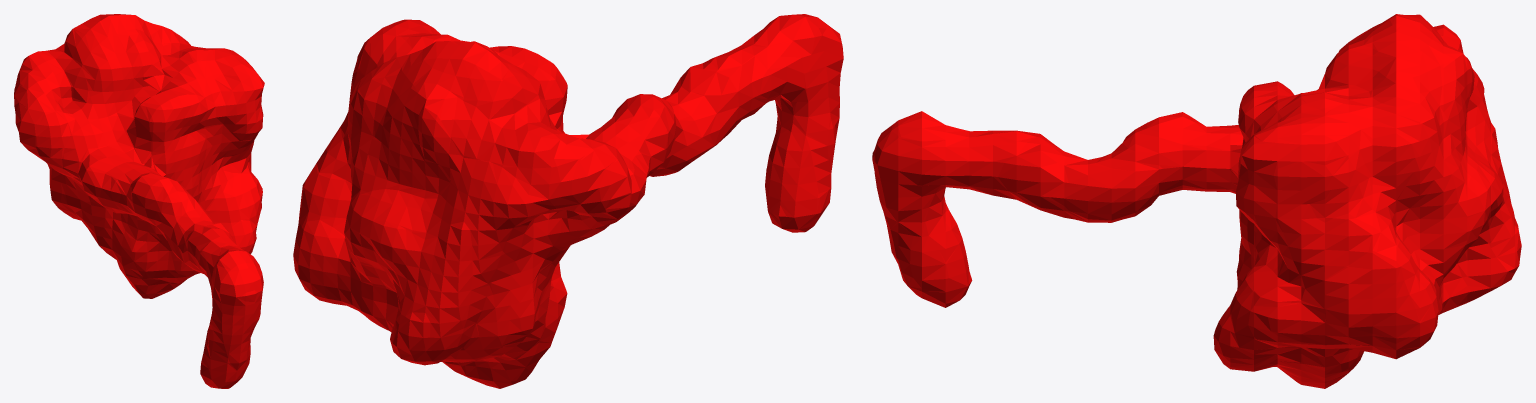
File: nuoL_coarse.dae
3 renders of one model, left to right at view 1: azimuth 30°, elevation 25°; view 2: azimuth 150°, elevation 25°; view 3: azimuth 270°, elevation 25°, orthographic. The views are drawn at different scales.
Visible parts, largest first — view 1: nuoL; view 2: nuoL; view 3: nuoL.
Part boxes in pixels (x1,y1,x2,y2): nuoL: (14,14,264,388); nuoL: (293,14,843,388); nuoL: (872,14,1521,388).
Size of the model in its own units: 67.34 by 74.97 by 124.
